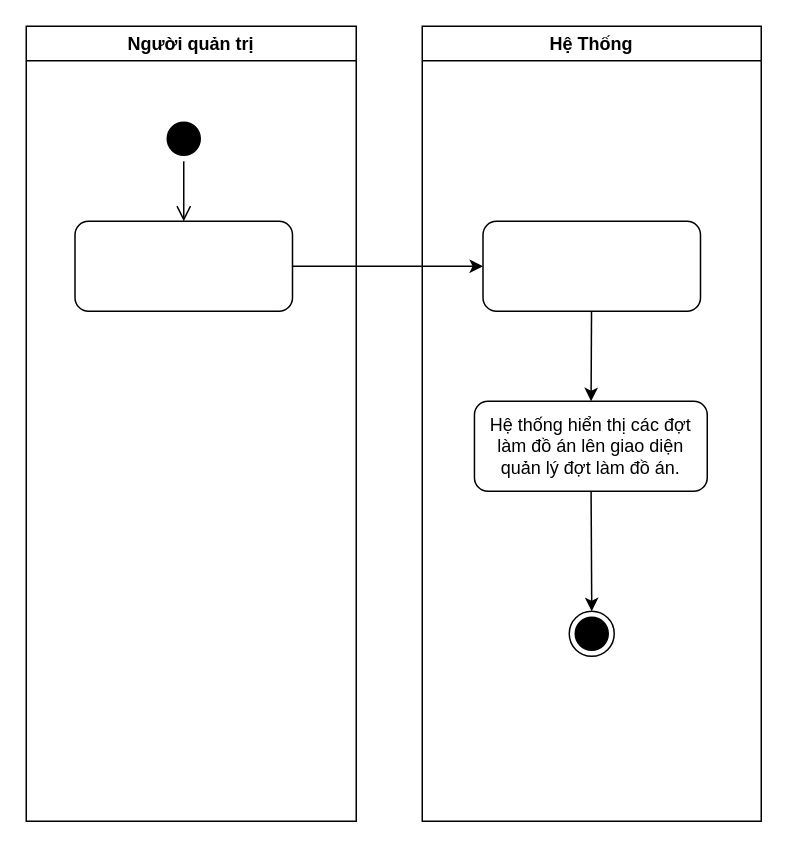
Image size: 788x848. Some labels were removed from this diagram. Here are the shapes that lost their labels. From the top down, the box of each, then its label:
(74, 220, 292, 311): Người quản trị chọn chức năng quản lý đợt làm đồ án
(482, 220, 700, 311): Hệ thống lấy thông tin về các đợt làm đồ án trên cơ sở dữ liệu.
